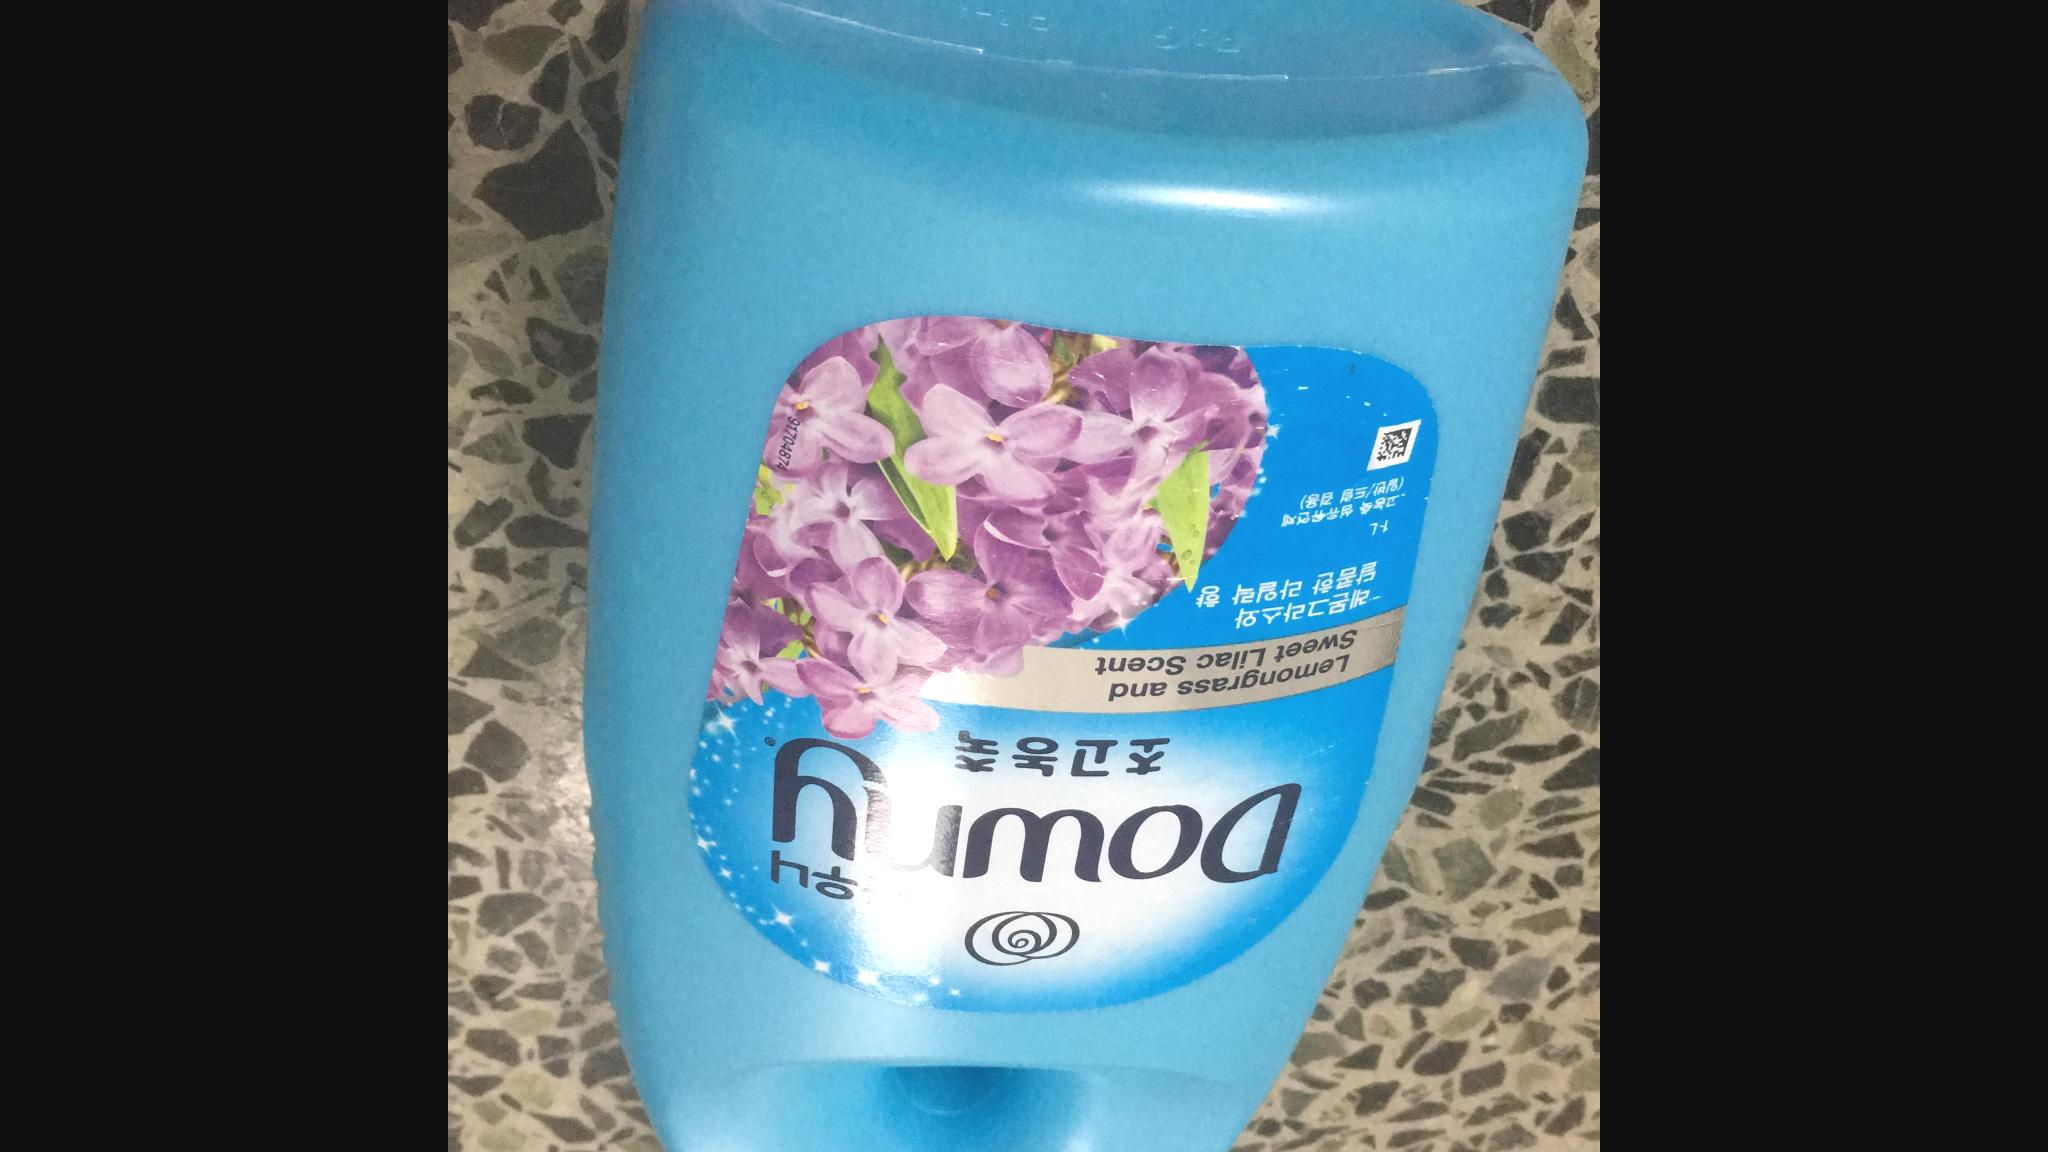bottle: (527, 0, 1594, 1152)
